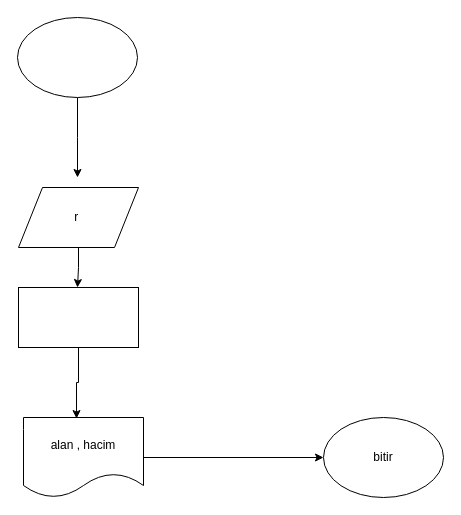
Some shapes in this 461 by 515 pixel diagram are drawn without their labels. The shapes that lost their labels are listed below. From the top down, each one's centre as x and y in pixels, then its label:
At pixel 77 57: "başla".
At pixel 78 317: "alan = 4*3,14 *r*r hacim = (4/3) * 3,14 * r*r*r".
